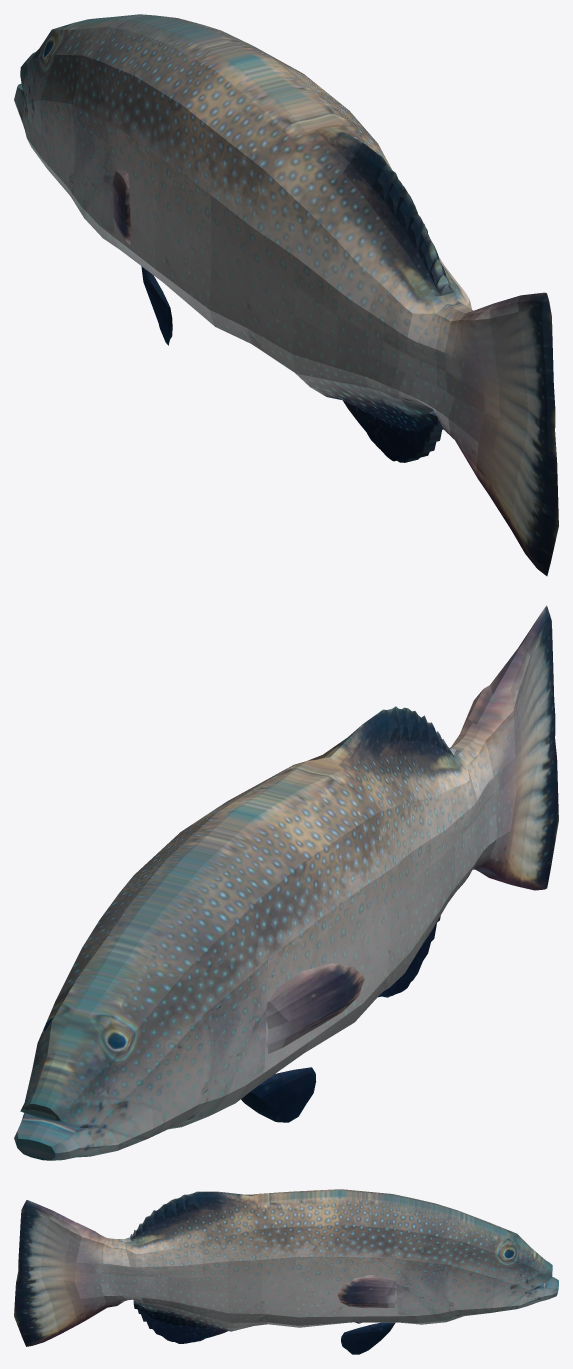
Rendered from plectropomus-areolatus.glb.
3 renders of one model, top to bottom at view 1: azimuth 30°, elevation 25°; view 2: azimuth 150°, elevation 25°; view 3: azimuth 270°, elevation 25°, orthographic. The views are drawn at different scales.
Parts seen in each view (by area): view 1: squaretail coral grouper, pectoral.l, pelvic.l; view 2: squaretail coral grouper, pectoral.l, pelvic.l; view 3: squaretail coral grouper, pectoral.r, pelvic.r.
Part boxes in pixels (left/top/right/bottom): squaretail coral grouper: left=14, top=14, right=558, bottom=576; pectoral.l: left=112, top=170, right=130, bottom=244; pelvic.l: left=141, top=266, right=172, bottom=345; squaretail coral grouper: left=14, top=605, right=558, bottom=1160; pectoral.l: left=265, top=963, right=364, bottom=1053; pelvic.l: left=241, top=1067, right=316, bottom=1122; squaretail coral grouper: left=14, top=1189, right=558, bottom=1346; pectoral.r: left=337, top=1275, right=396, bottom=1308; pelvic.r: left=341, top=1322, right=395, bottom=1354.
Bounding box in the file's own units: 0.2064 × 0.2518 × 0.8002.
1 material, 1 textured.
